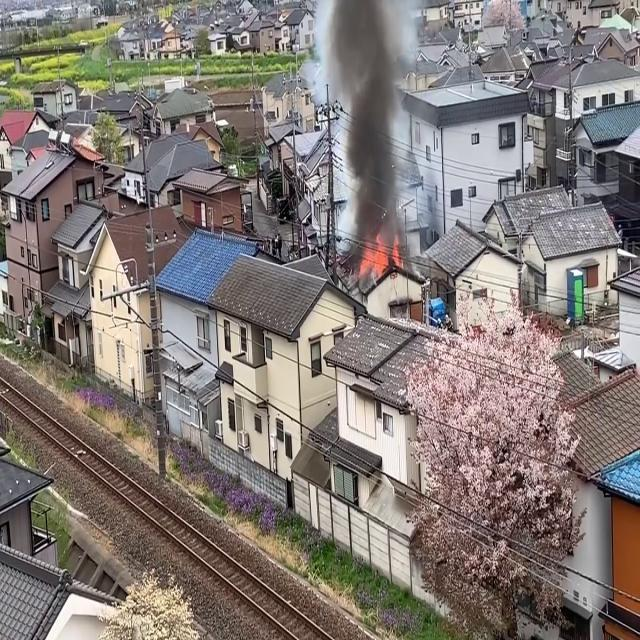Fire: (358, 233, 400, 281)
Smoke: (327, 0, 410, 244)
